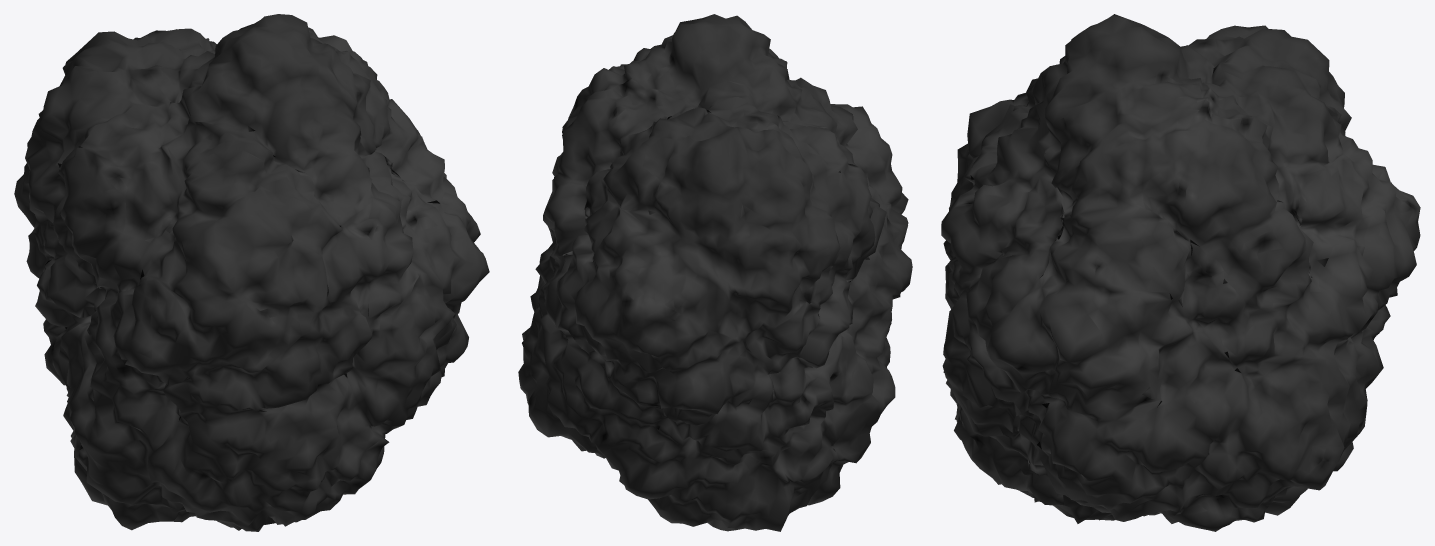
The model's file is lava_1.glb.
3 views of the same model, side by side, from view 1: azimuth 30°, elevation 25°; view 2: azimuth 150°, elevation 25°; view 3: azimuth 270°, elevation 25° (orthographic). The views are drawn at different scales.
Visible parts, largest first — view 1: LavaRock_web; view 2: LavaRock_web; view 3: LavaRock_web.
Boxes of the visible parts, x1,y1,x2,y2 form: LavaRock_web: [14, 14, 489, 531]; LavaRock_web: [518, 14, 912, 531]; LavaRock_web: [941, 14, 1420, 531].
Size of the model in its own units: 0.2835 by 0.3611 by 0.3029.
1 material, 1 textured.
